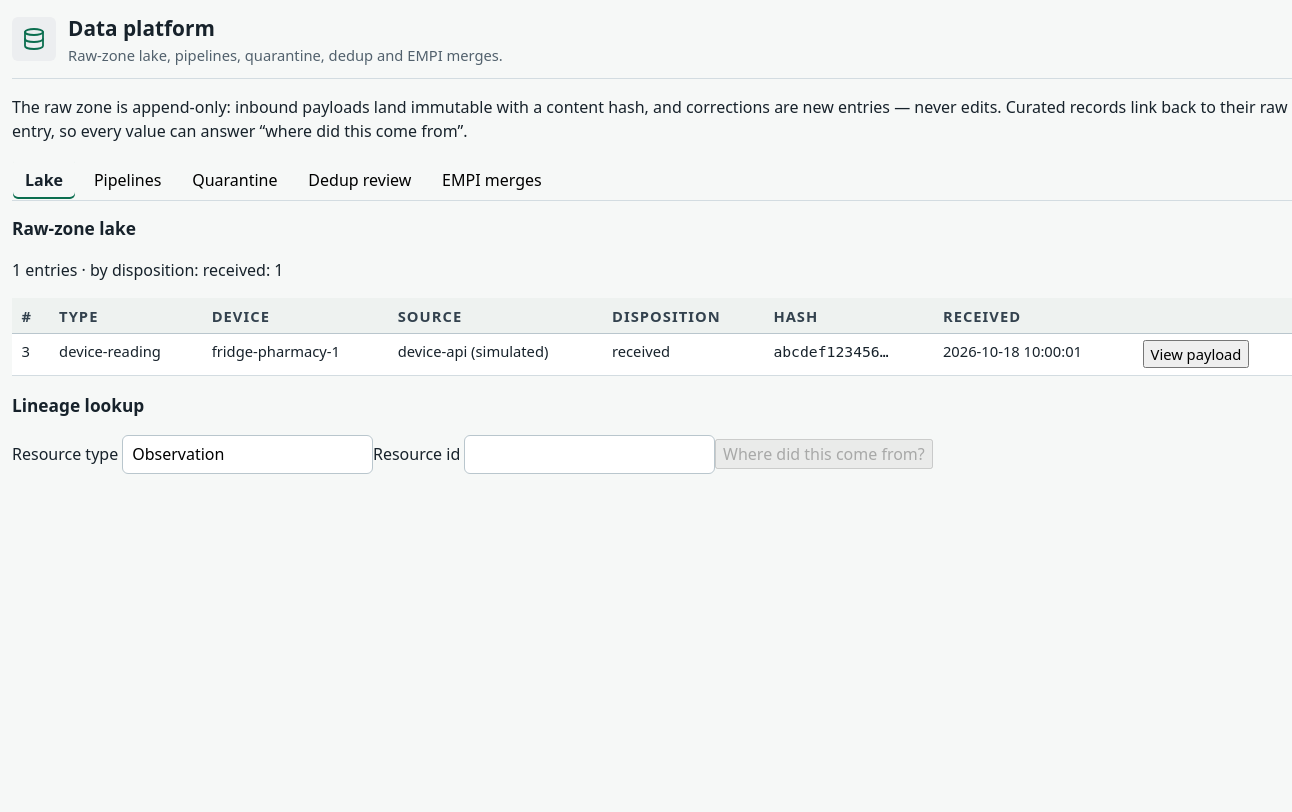
DataPlatformPage › renders the lake, pipelines, quarantine and dedup candidates
Expected: the text "device-reading" is shown, [50,334,202,375]
Expected: the text "abcdef123456…" is shown, [773,343,889,360]
Click the tab "Pipelines".
click(128, 180)  # box [81,159,174,200]
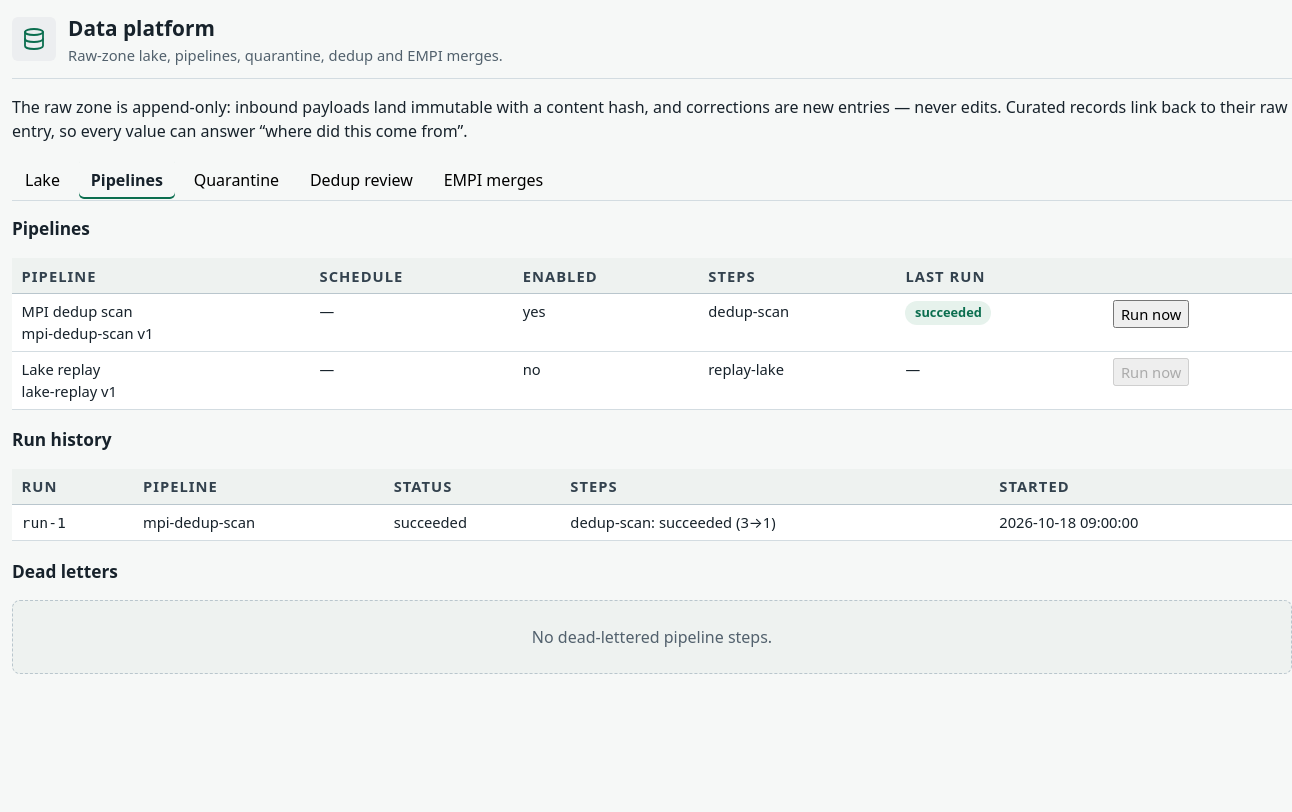
Expected: the number of buttons "Run now" is 2, [1113,300,1189,328]; [1113,358,1189,386]
Now the text "MPI dedup scan" is shown, box [22,301,132,321]
Click the tab "Quarantine".
click(236, 180)  # box [181,159,292,200]
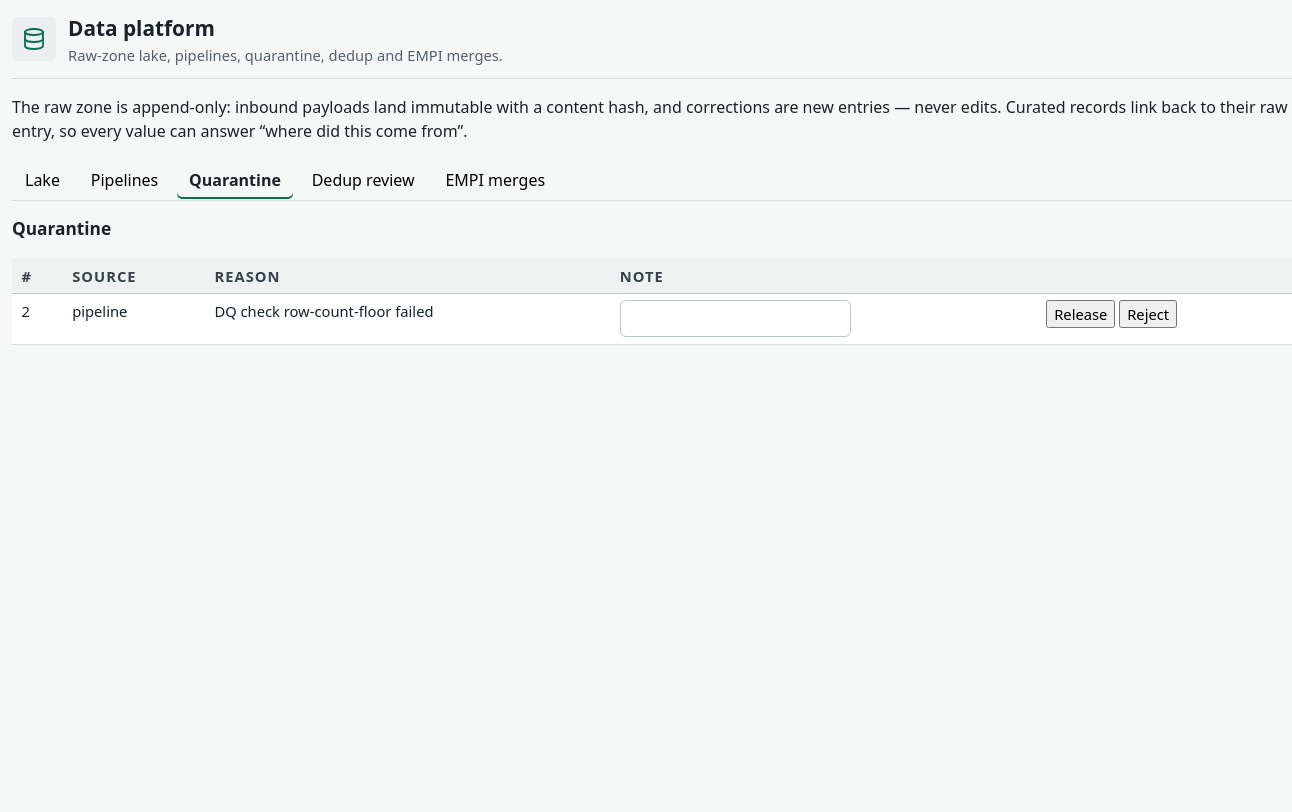
Now the text "DQ check row-count-floor failed" is shown, box [205,294,610,344]
Click the tab "Dedup review".
click(363, 180)  # box [299,159,428,200]
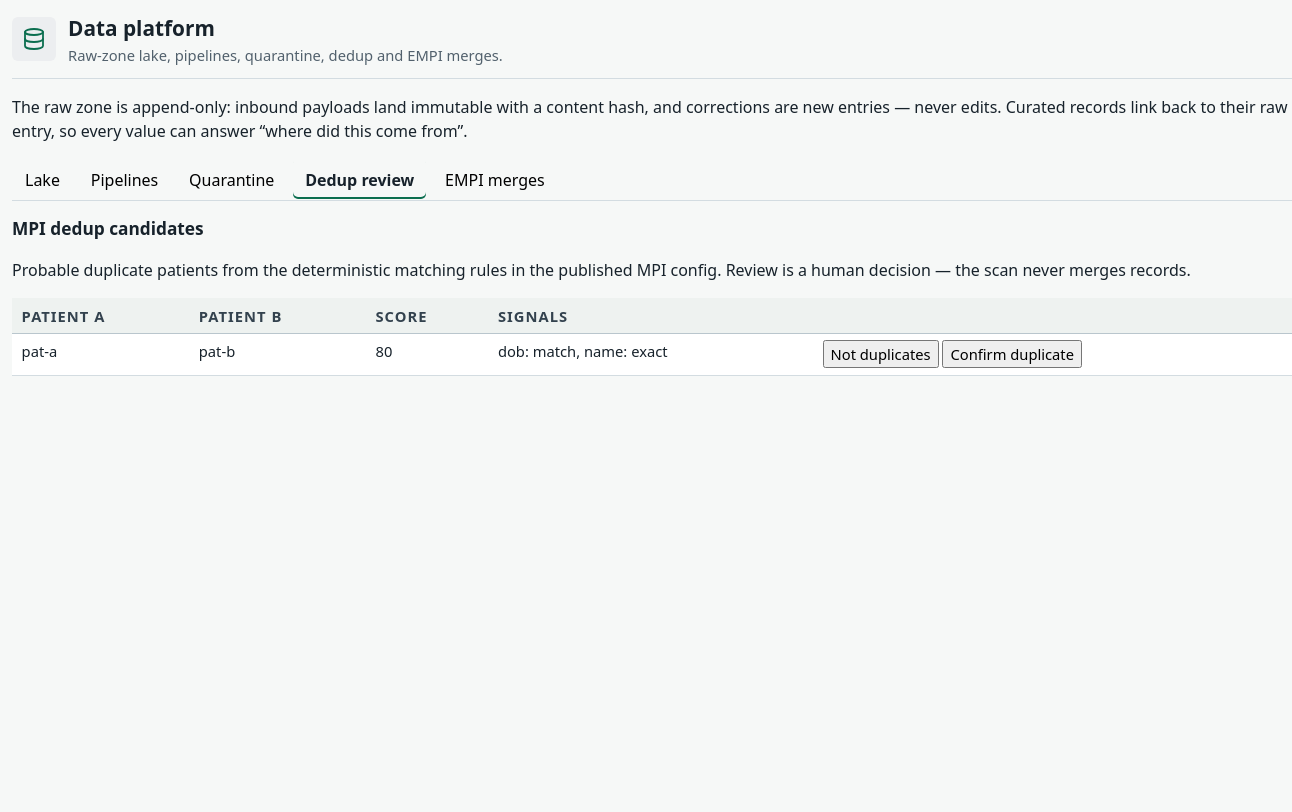
Now the text "pat-a" is shown, box [12,334,189,375]
Now the text "pat-b" is shown, box [189,334,366,375]
Now the text "never merges" is shown, box [12,259,1191,281]
